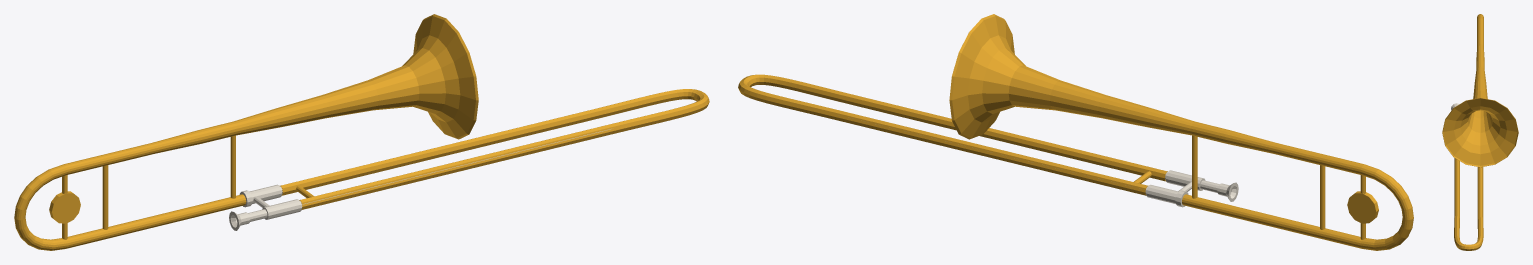
File: trombone-sanyo.fbx
The picture shows the model from 3 angles, left to right: view 1: azimuth 30°, elevation 25°; view 2: azimuth 150°, elevation 25°; view 3: azimuth 270°, elevation 25°; orthographic projection. The views are drawn at different scales.
Visible parts, largest first — view 1: Body, Slide; view 2: Body, Slide; view 3: Body, Slide.
Boxes of the visible parts, bbox=[...] form: Body: bbox=[14, 14, 610, 250]; Slide: bbox=[280, 89, 709, 209]; Body: bbox=[949, 14, 1413, 250]; Slide: bbox=[738, 74, 1167, 195]; Body: bbox=[1442, 14, 1518, 217]; Slide: bbox=[1454, 158, 1483, 250].
Size of the model in its own units: 122 by 24.16 by 19.99.
